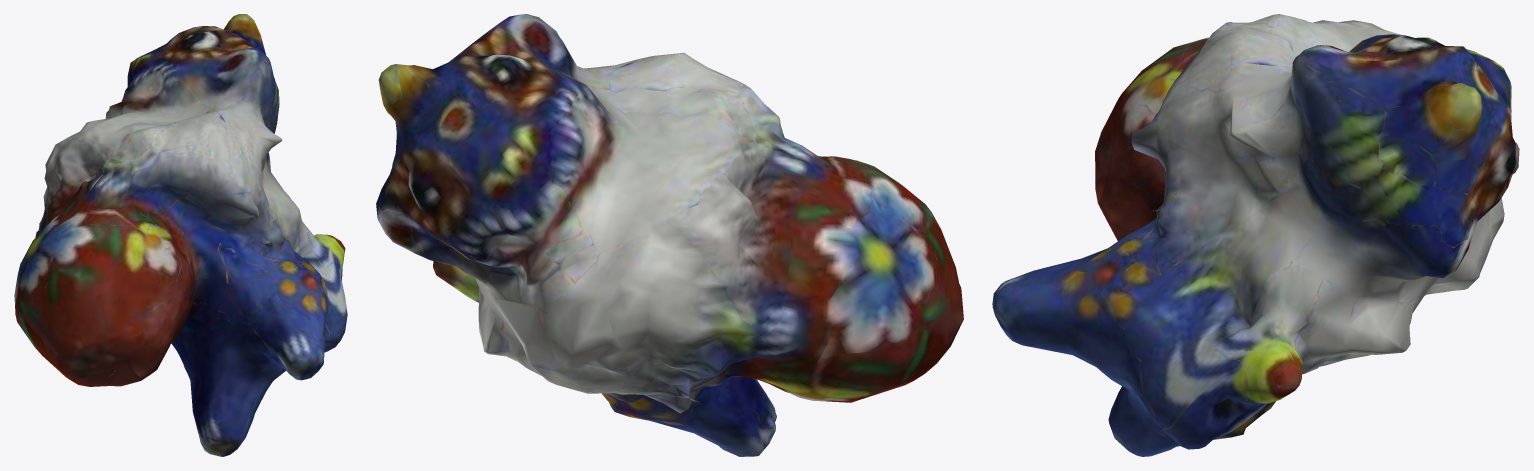
The model's file is hall.glb.
3 renders of one model, left to right at view 1: azimuth 30°, elevation 25°; view 2: azimuth 150°, elevation 25°; view 3: azimuth 270°, elevation 25°, orthographic. The views are drawn at different scales.
Bounding box in the file's own units: 0.5467 × 0.5178 × 0.5232.
1 material, 1 textured.
